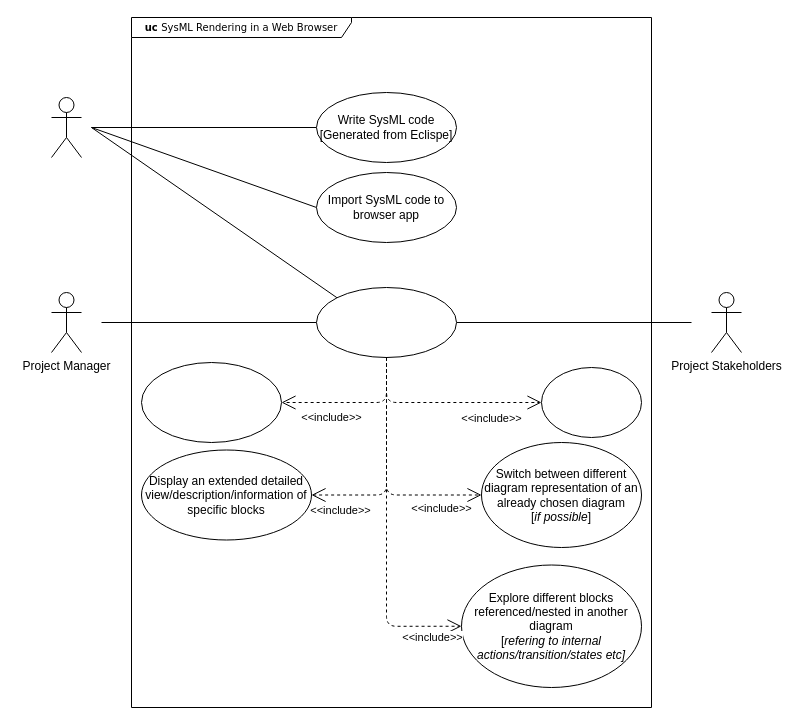
The diagram is 799 pixels wide and 725 high, and some of its shapes have lost their labels. The box of each missing label's shape, as (x1, y1, x2, y2) in pixels:
Explore deeper levels of nested views: (540, 366, 642, 438)
Explore different diagrams referenced/nested in another diagram: (140, 362, 282, 442)
Interact with diagram view: (316, 286, 456, 358)
System Developer: (50, 96, 82, 158)
